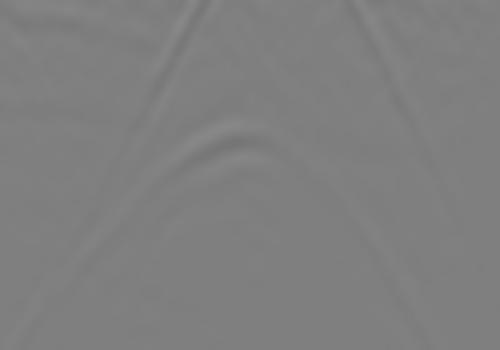hyperbola: (38, 113, 444, 323)
